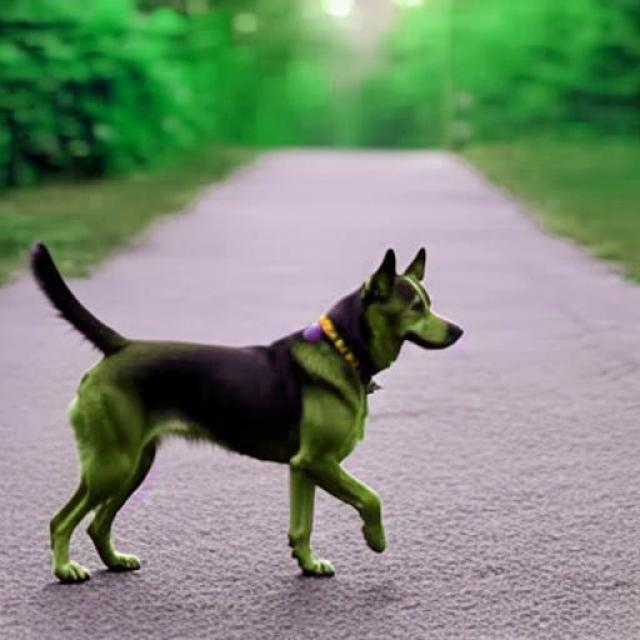Dog: (30, 241, 464, 585)
